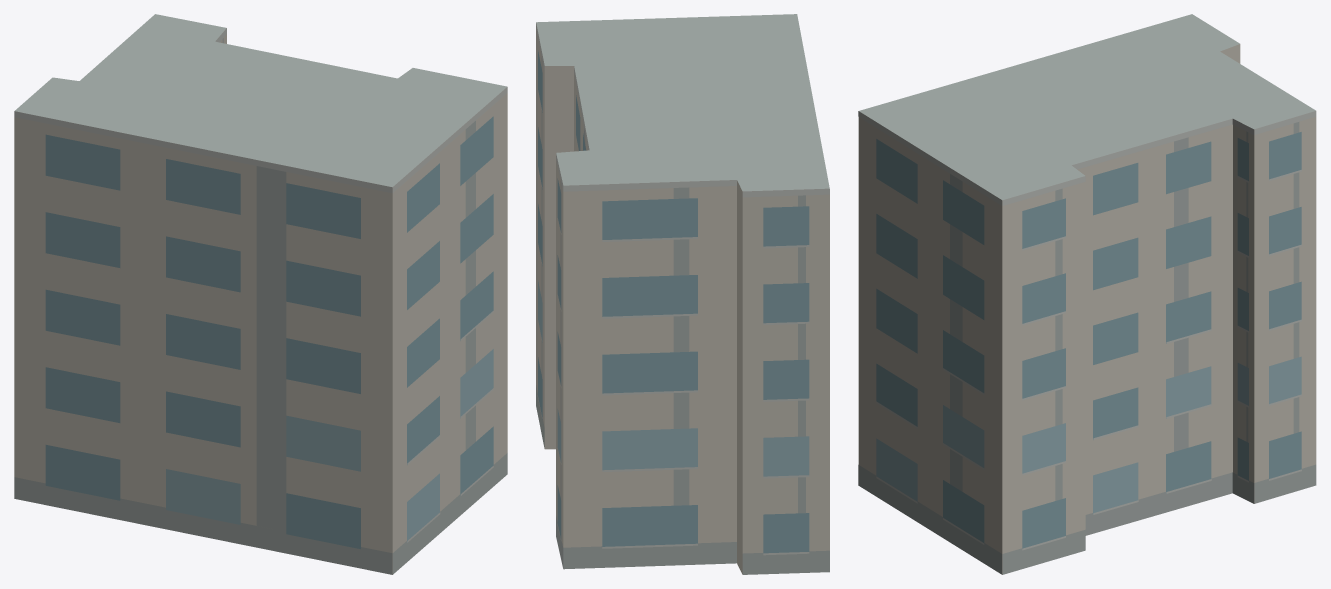
File: survey-upis-32881734.glb
3 renders of one model, left to right at view 1: azimuth 30°, elevation 25°; view 2: azimuth 150°, elevation 25°; view 3: azimuth 270°, elevation 25°, orthographic. The views are drawn at different scales.
Visible parts, largest first — view 1: survey-upis-32881734.tmp; view 2: survey-upis-32881734.tmp; view 3: survey-upis-32881734.tmp.
Boxes of the visible parts, x1,y1,x2,y2 form: survey-upis-32881734.tmp: (14, 14, 507, 574); survey-upis-32881734.tmp: (536, 14, 829, 574); survey-upis-32881734.tmp: (858, 14, 1316, 574).
Size of the model in its own units: 16.65 by 15.6 by 17.29.
